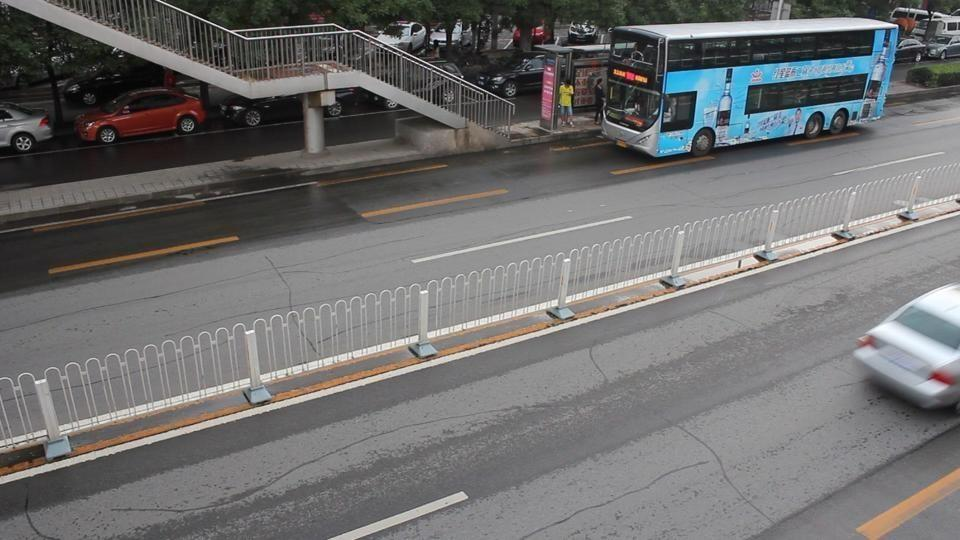car: (852, 282, 960, 411), (74, 88, 208, 146), (476, 55, 556, 97), (0, 103, 53, 154), (374, 20, 429, 54), (926, 35, 960, 62), (897, 37, 927, 62), (567, 23, 598, 44)
